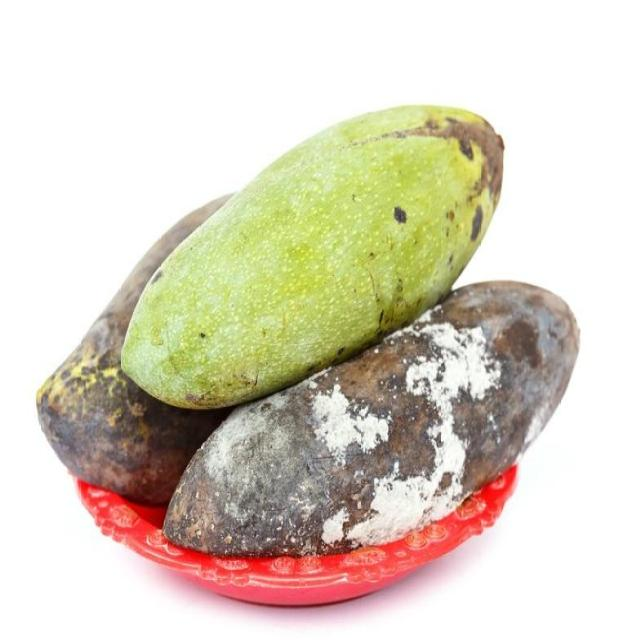Wet Waste: (37, 106, 578, 562)
